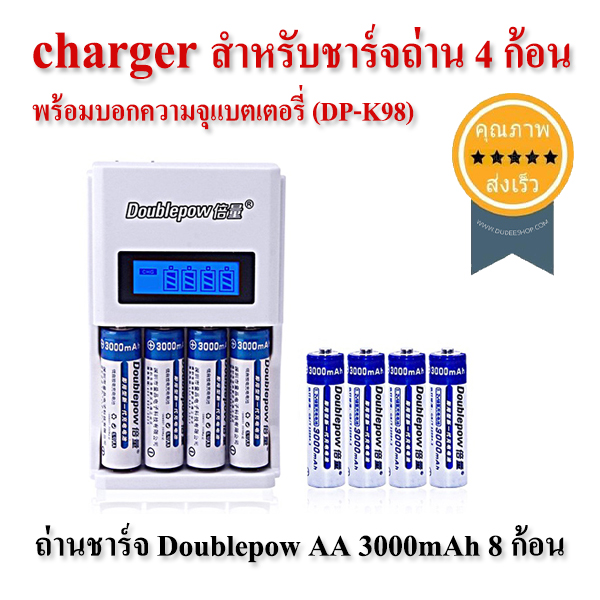Battery: (142, 328, 187, 471), (426, 346, 469, 489), (346, 346, 389, 489), (305, 347, 348, 489), (229, 328, 272, 470), (185, 327, 226, 470), (99, 328, 140, 471), (387, 347, 426, 489)
